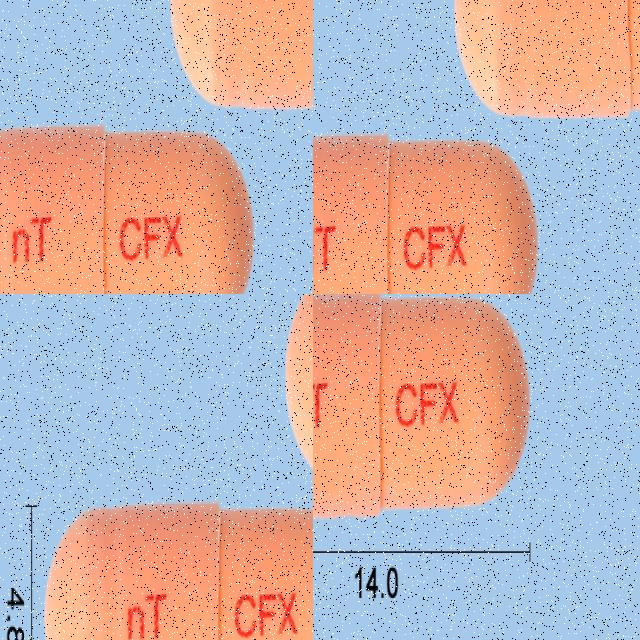Lamisil: (313, 0, 462, 294), (493, 0, 640, 294)
Levofexin - 500mg: (0, 71, 207, 294), (205, 0, 313, 170)
Lexacin: (42, 466, 313, 640)
NT-fixime Cap: (313, 294, 530, 519)
